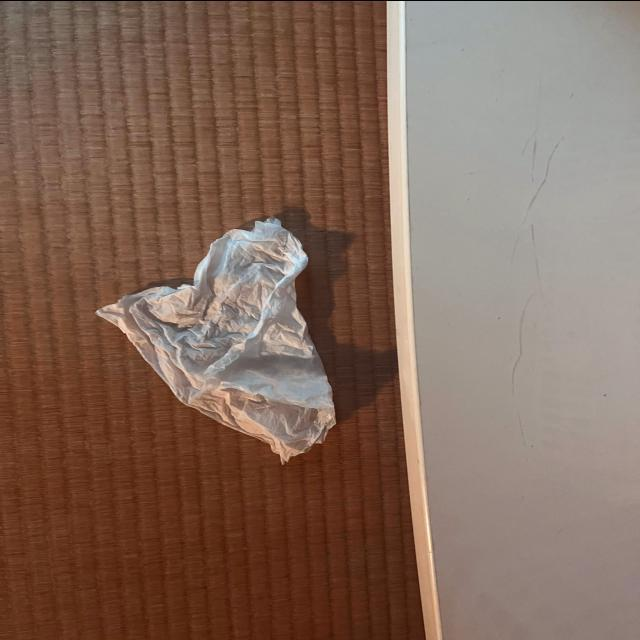Paper: (112, 212, 338, 474)
